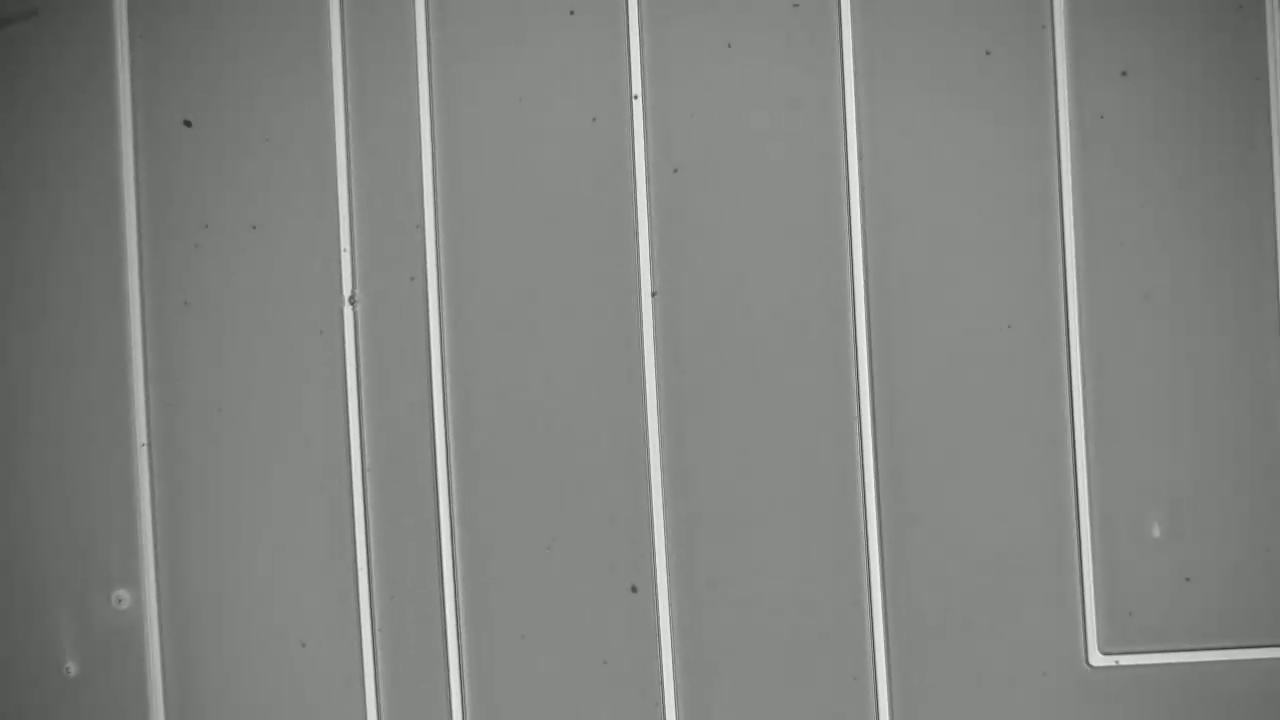stains_enbedded: (337, 285, 362, 312)
